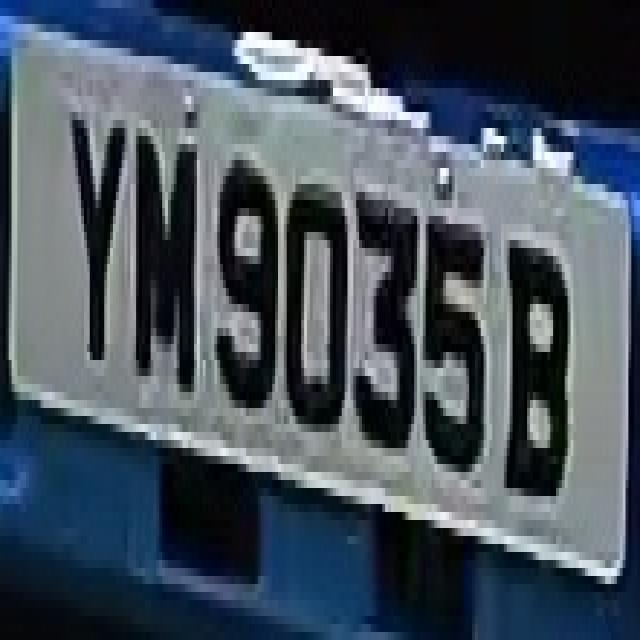0: (281, 128, 347, 456)
3: (345, 168, 420, 480)
5: (420, 184, 486, 504)
9: (211, 128, 281, 432)
B: (501, 208, 570, 536)
M: (124, 80, 206, 432)
Y: (61, 80, 130, 392)
